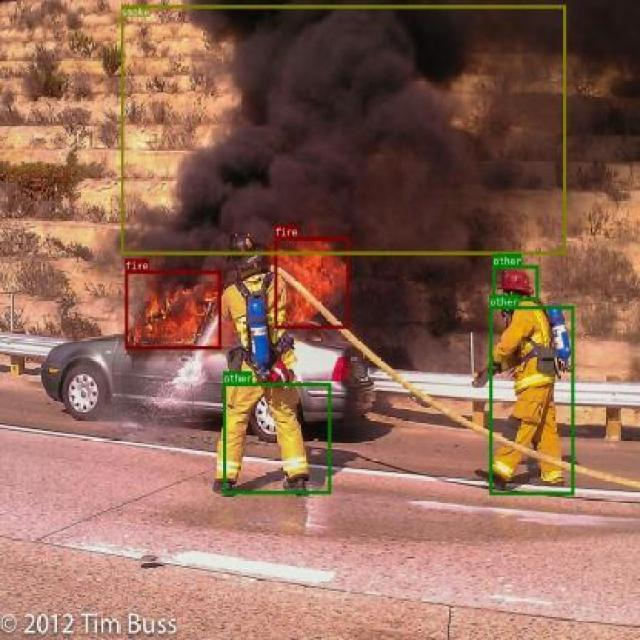Fire: (124, 270, 220, 348), (274, 236, 348, 327)
Smoke: (120, 5, 566, 254)
